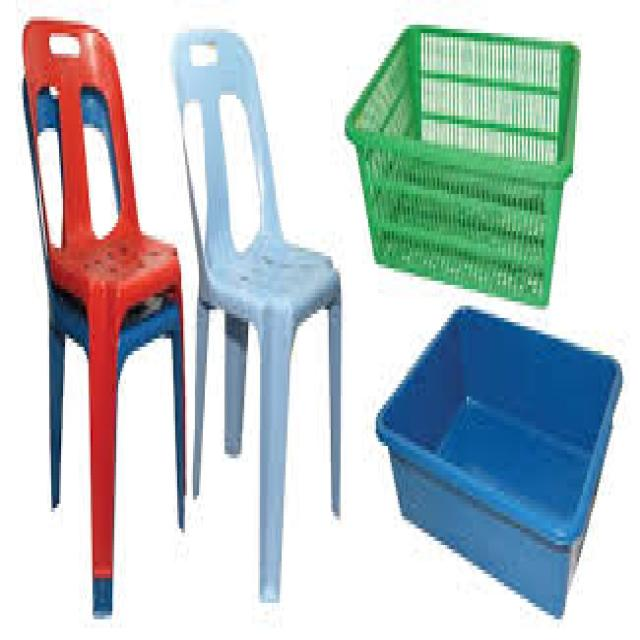basket: (327, 18, 591, 305)
